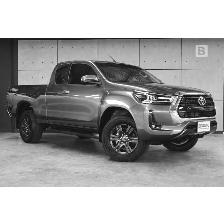NON-EV: (6, 59, 218, 164)
